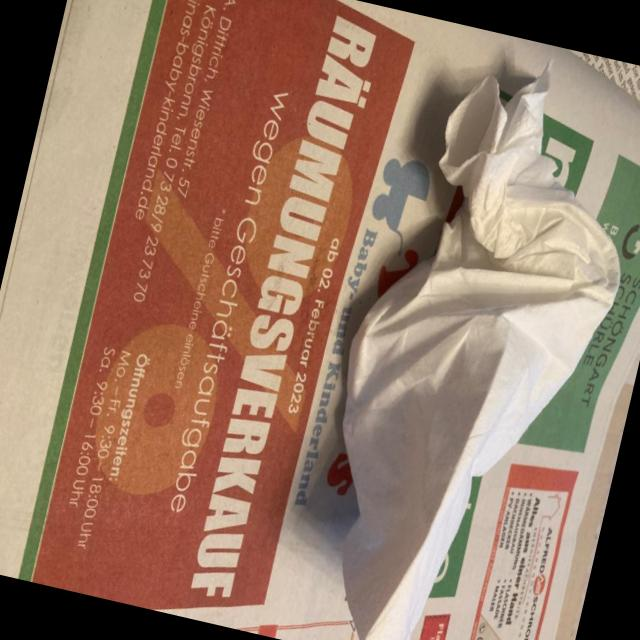organic waste: (282, 28, 640, 640)
